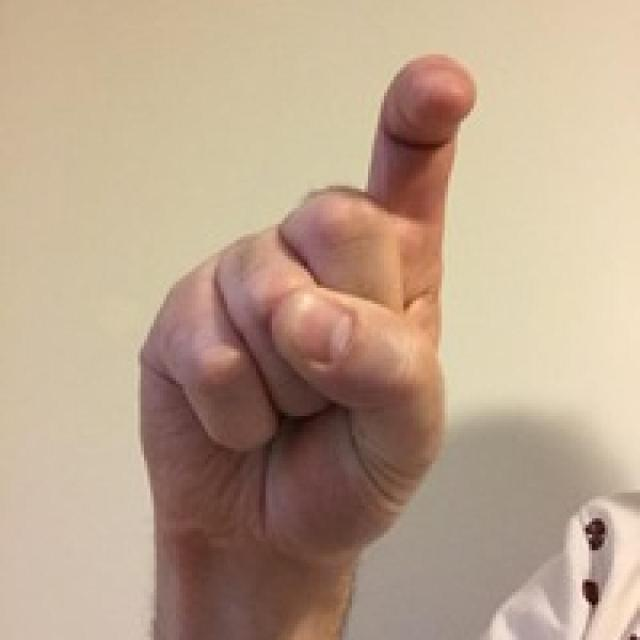X: (62, 39, 533, 623)
